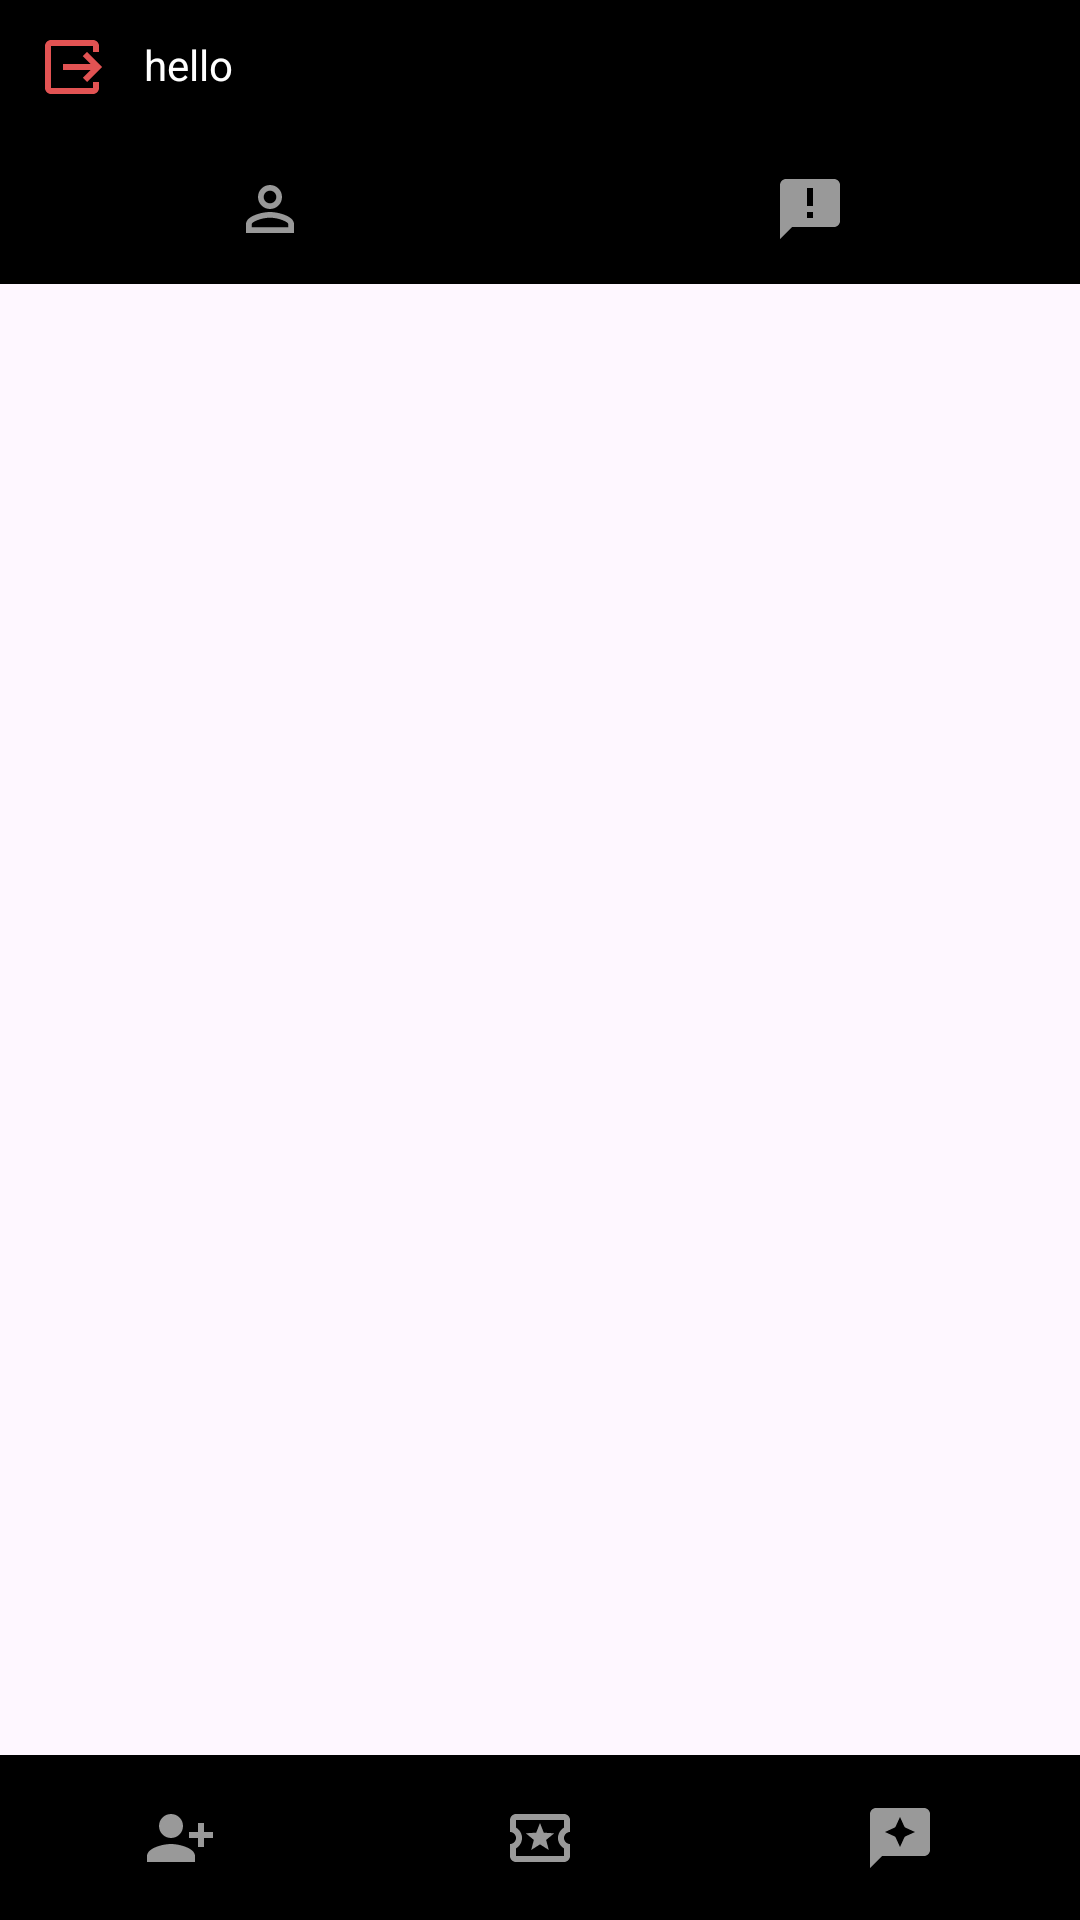

Icon click points for this 1080*1920 phone screenshot, format (x,y):
announcement: (810,209)
local activity: (540,1838)
output: (73,67)
person: (270,209)
person add: (180,1838)
reviews: (900,1838)
